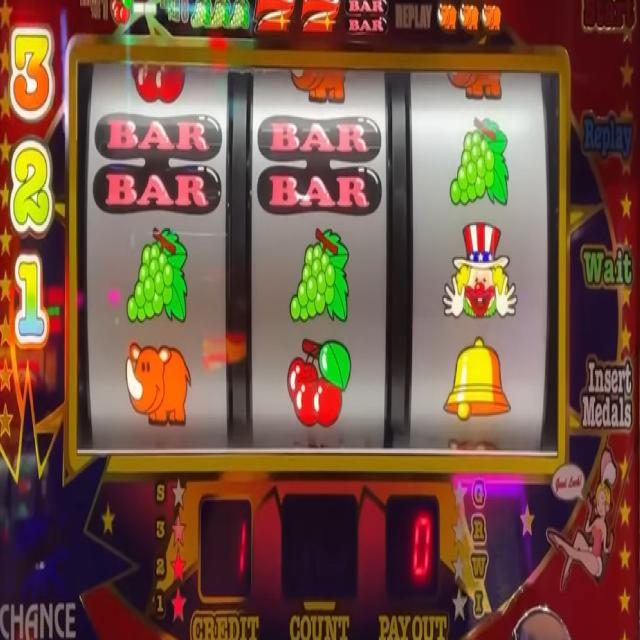bar: (256, 111, 382, 214), (94, 112, 222, 213), (345, 0, 387, 38)
bell: (442, 338, 513, 426)
cherry: (287, 334, 351, 429), (130, 62, 188, 101), (109, 0, 133, 26)
clown: (443, 220, 517, 328)
display: (75, 50, 558, 457)
elephant: (125, 341, 191, 433), (290, 61, 349, 111), (444, 68, 504, 102), (435, 0, 456, 35), (480, 2, 500, 33), (459, 3, 479, 33)
grape: (289, 225, 351, 326), (126, 227, 188, 326), (448, 117, 511, 212), (192, 0, 211, 29), (212, 0, 231, 28), (231, 0, 248, 28)
z: (254, 0, 294, 36), (300, 0, 338, 36)
